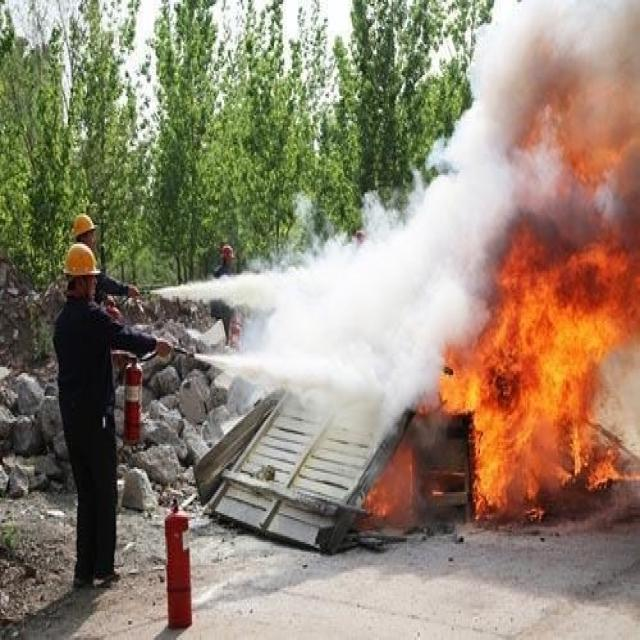Fire: (436, 221, 640, 525), (518, 80, 621, 194)
Smoke: (226, 1, 640, 457)
